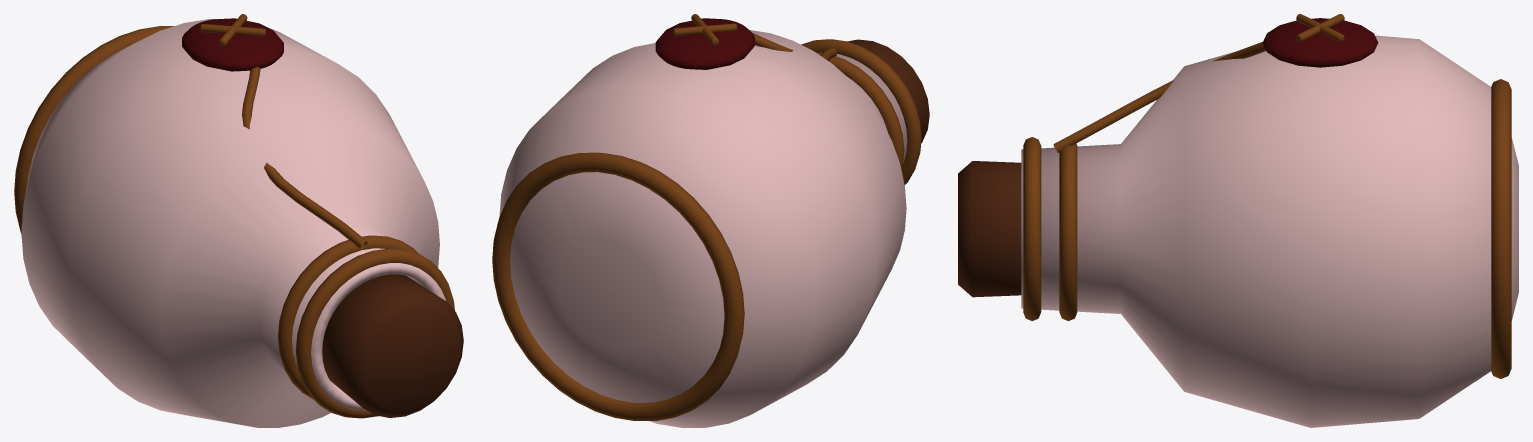
Rendered from Potion_Red.obj.
3 views of the same model, side by side, from view 1: azimuth 30°, elevation 25°; view 2: azimuth 150°, elevation 25°; view 3: azimuth 270°, elevation 25° (orthographic). The views are drawn at different scales.
Parts seen in each view (by area): view 1: Thick_Walled_Red_Bottle, Cork_Stopper, Neck_Brass_Ring.001, Wax_Seal, Base_Metal_Trim, Neck_Brass_Ring, Seal_Cord, Seal_Rune.001; view 2: Thick_Walled_Red_Bottle, Base_Metal_Trim, Wax_Seal, Neck_Brass_Ring.001, Neck_Brass_Ring, Cork_Stopper, Seal_Rune, Seal_Cord; view 3: Thick_Walled_Red_Bottle, Cork_Stopper, Base_Metal_Trim, Wax_Seal, Neck_Brass_Ring.001, Neck_Brass_Ring, Seal_Cord.
Boxes of the visible parts, x1=… form: Thick_Walled_Red_Bottle: x1=21, y1=19, x2=445, y2=427; Cork_Stopper: x1=322, y1=274, x2=463, y2=417; Neck_Brass_Ring.001: x1=295, y1=248, x2=454, y2=418; Wax_Seal: x1=182, y1=18, x2=283, y2=71; Base_Metal_Trim: x1=14, y1=26, x2=174, y2=234; Neck_Brass_Ring: x1=278, y1=235, x2=418, y2=399; Seal_Cord: x1=242, y1=67, x2=367, y2=249; Seal_Rune.001: x1=200, y1=24, x2=265, y2=36; Thick_Walled_Red_Bottle: x1=499, y1=30, x2=907, y2=427; Base_Metal_Trim: x1=492, y1=152, x2=744, y2=420; Wax_Seal: x1=655, y1=18, x2=754, y2=69; Neck_Brass_Ring.001: x1=801, y1=39, x2=921, y2=184; Neck_Brass_Ring: x1=815, y1=52, x2=904, y2=169; Cork_Stopper: x1=847, y1=39, x2=929, y2=142; Seal_Rune: x1=673, y1=23, x2=737, y2=36; Seal_Cord: x1=752, y1=33, x2=837, y2=60; Thick_Walled_Red_Bottle: x1=1021, y1=35, x2=1518, y2=427; Cork_Stopper: x1=958, y1=161, x2=1021, y2=297; Base_Metal_Trim: x1=1491, y1=79, x2=1511, y2=378; Wax_Seal: x1=1262, y1=18, x2=1378, y2=67; Neck_Brass_Ring.001: x1=1023, y1=137, x2=1041, y2=320; Neck_Brass_Ring: x1=1059, y1=143, x2=1077, y2=321; Seal_Cord: x1=1053, y1=41, x2=1265, y2=152.
Size of the model in its own units: 0.22 by 0.2348 by 0.31.
